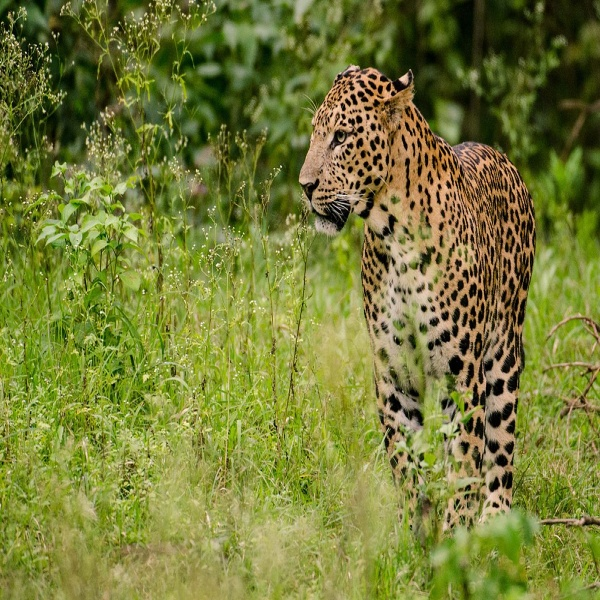Leopard: (293, 56, 537, 535)
